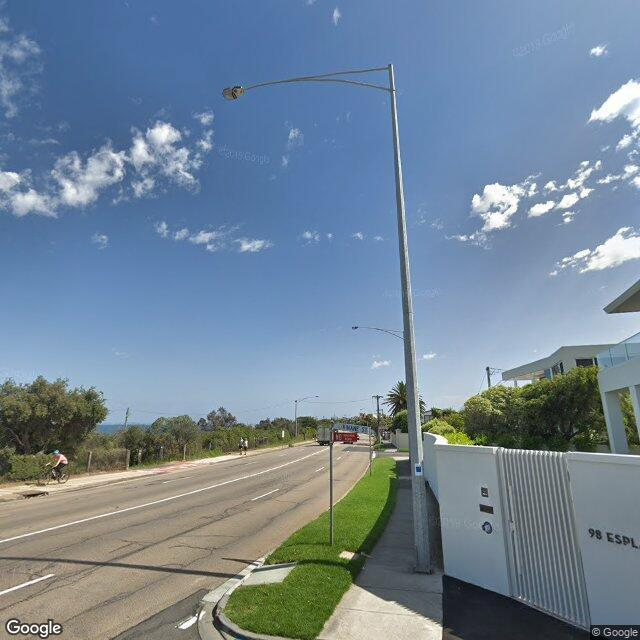concrete-pole: (389, 62, 433, 574), (295, 399, 298, 435)
streetlight: (221, 66, 391, 102), (352, 325, 404, 340), (297, 395, 320, 402)
